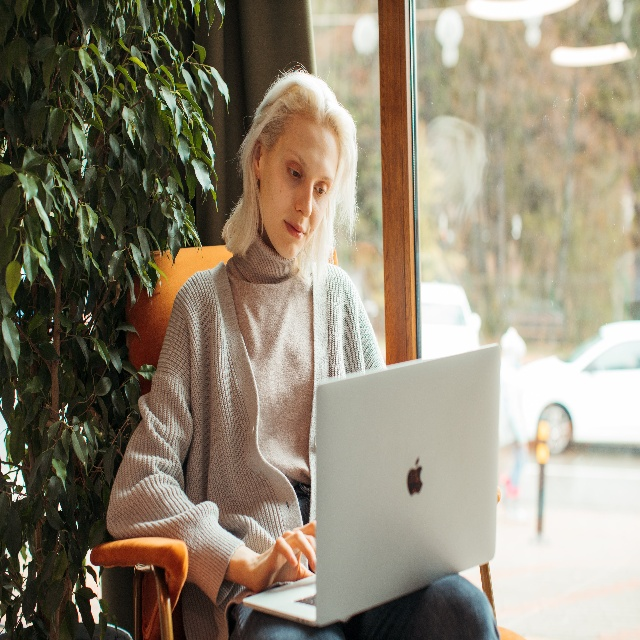Sin_guantes: (249, 519, 316, 595)
